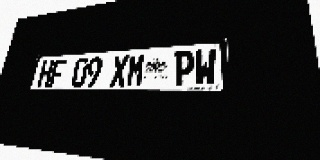0: (71, 57, 89, 87)
9: (84, 56, 103, 87)
F: (48, 59, 67, 87)
H: (37, 60, 54, 87)
M: (126, 53, 146, 87)
P: (173, 50, 195, 86)
W: (195, 48, 217, 86)
X: (109, 55, 129, 87)
